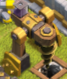dark_elixir_colector: (3, 1, 63, 73)
